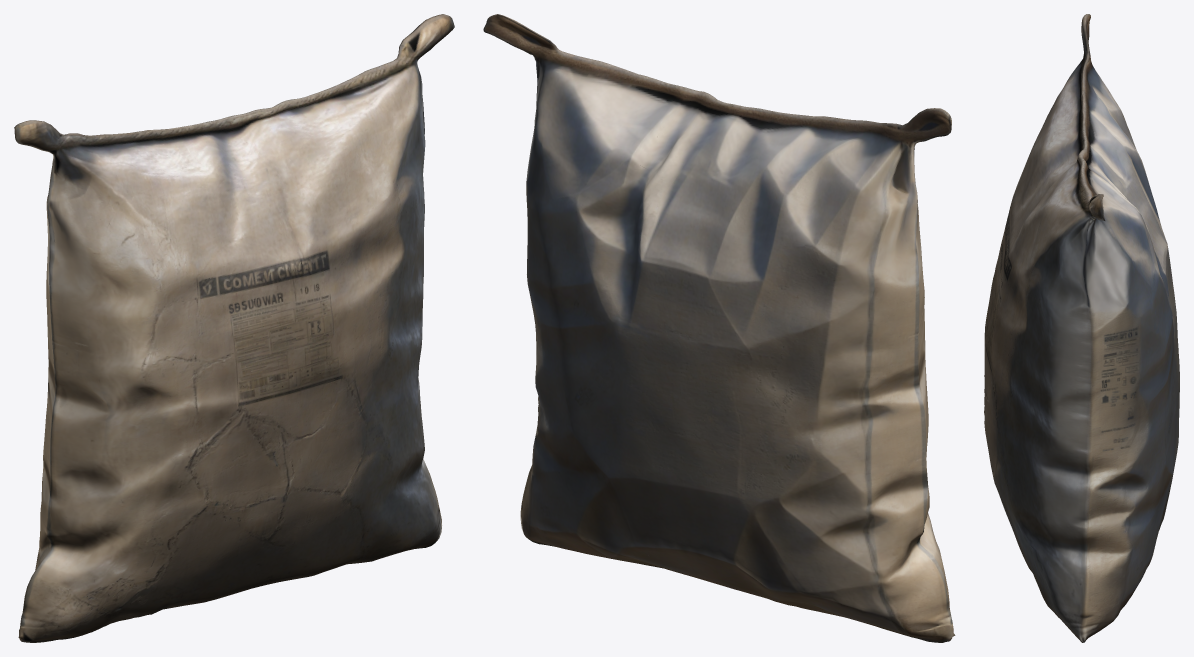
The model's file is SM_Cement_Bag.fbx.
The picture shows the model from 3 angles, left to right: view 1: azimuth 30°, elevation 25°; view 2: azimuth 150°, elevation 25°; view 3: azimuth 270°, elevation 25°; orthographic projection. The views are drawn at different scales.
Parts seen in each view (by area): view 1: Mesh1.0; view 2: Mesh1.0; view 3: Mesh1.0.
Part boxes in pixels (<box>): Mesh1.0: <box>14,14,454,642</box>; Mesh1.0: <box>483,14,955,642</box>; Mesh1.0: <box>984,14,1179,642</box>.
Bounding box in the file's own units: 179 × 200 × 77.26.
1 material, 1 textured.
